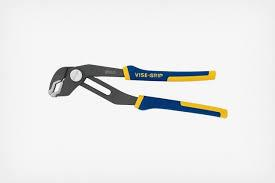pliers: (47, 61, 229, 118)
